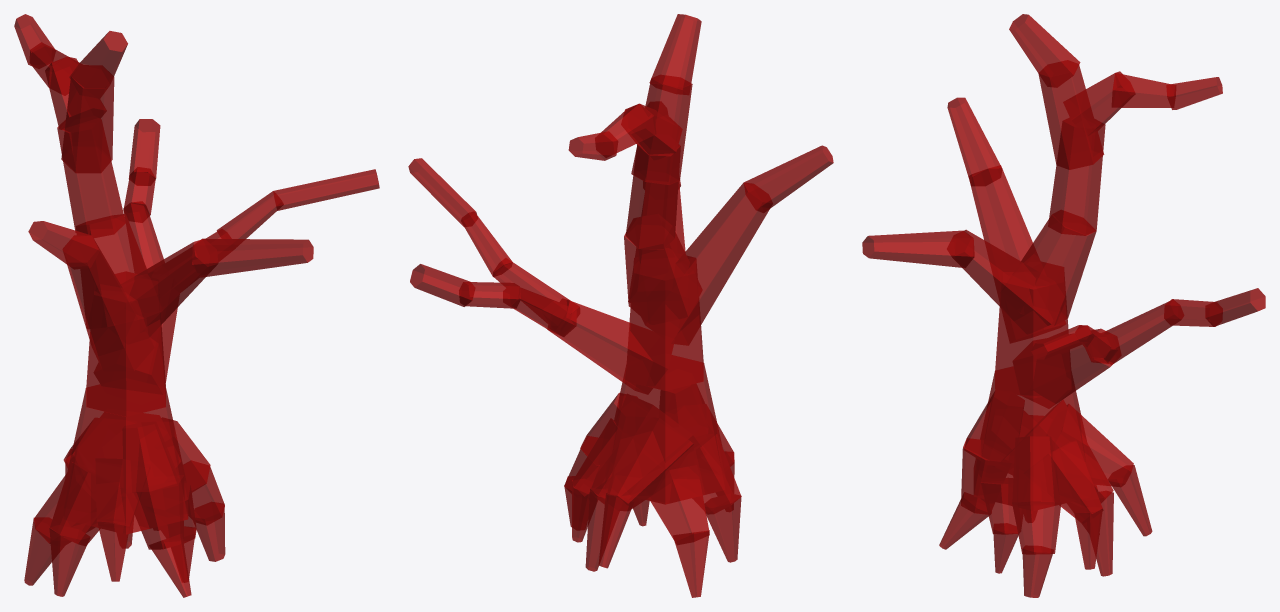
The model's file is SM_Env_Tree_Meadow_01_Collision.fbx.
The picture shows the model from 3 angles, left to right: view 1: azimuth 30°, elevation 25°; view 2: azimuth 150°, elevation 25°; view 3: azimuth 270°, elevation 25°; orthographic projection. The views are drawn at different scales.
Visible parts, largest first — view 1: SM_Env_Tree_Meadow_01_Collision; view 2: SM_Env_Tree_Meadow_01_Collision; view 3: SM_Env_Tree_Meadow_01_Collision.
Boxes of the visible parts, <box> form: SM_Env_Tree_Meadow_01_Collision: <box>14,14,379,597</box>; SM_Env_Tree_Meadow_01_Collision: <box>408,14,833,597</box>; SM_Env_Tree_Meadow_01_Collision: <box>862,14,1265,597</box>.
Size of the model in its own units: 670 by 929 by 625.
